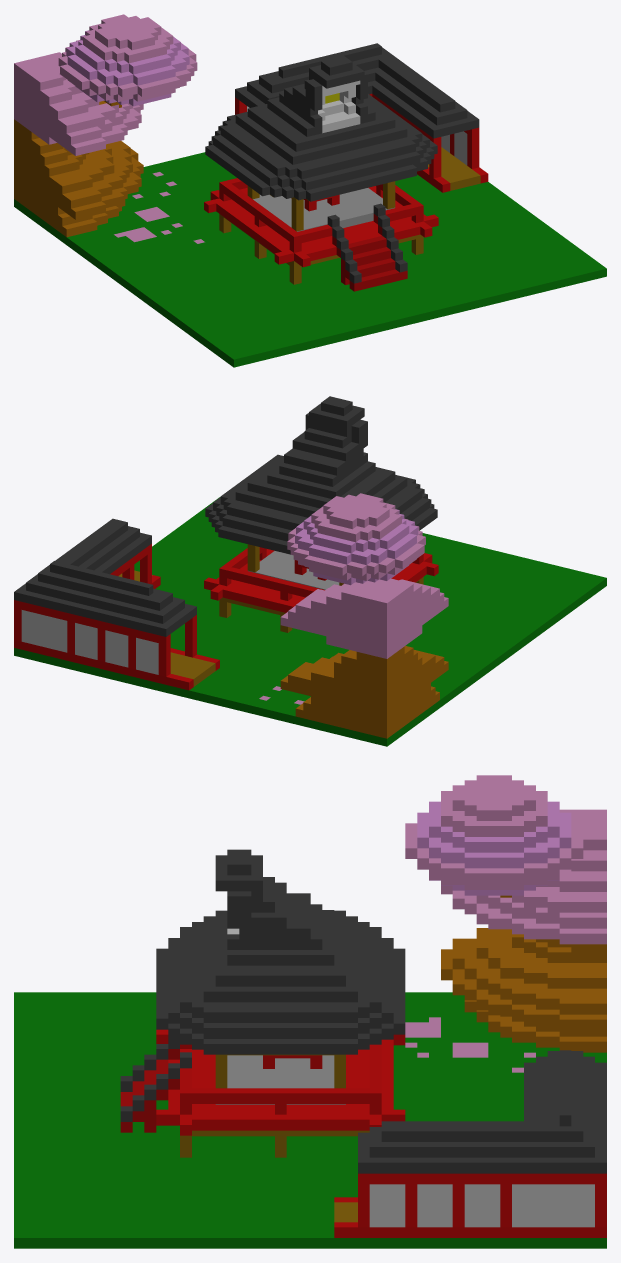
3 views of the same model, one above another, from view 1: azimuth 30°, elevation 25°; view 2: azimuth 150°, elevation 25°; view 3: azimuth 270°, elevation 25° (orthographic). The views are drawn at different scales.
Visible parts, largest first — view 1: Geode; view 2: Geode; view 3: Geode.
Boxes of the visible parts, x1,y1,x2,y2 form: Geode: [14, 14, 606, 367]; Geode: [14, 396, 606, 746]; Geode: [14, 775, 606, 1248].
Size of the model in its own units: 49 by 25 by 50.
